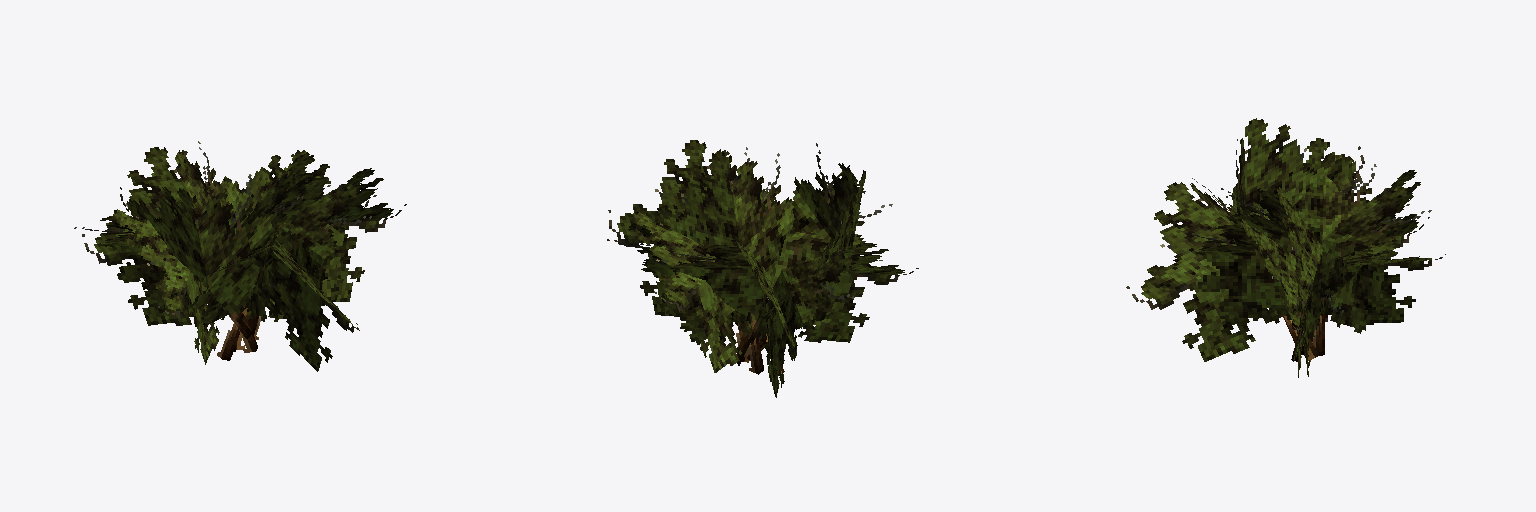
The picture shows the model from 3 angles: view 1: azimuth 30°, elevation 25°; view 2: azimuth 150°, elevation 25°; view 3: azimuth 270°, elevation 25°; orthographic projection.
Visible parts, largest first — view 1: sbushreg_1; view 2: sbushreg_1; view 3: sbushreg_1.
Boxes of the visible parts, x1=… form: sbushreg_1: x1=74, y1=141, x2=406, y2=371; sbushreg_1: x1=607, y1=140, x2=918, y2=397; sbushreg_1: x1=1126, y1=118, x2=1445, y2=377.
Size of the model in its own units: 3.17 by 2.58 by 3.04.
1 materials, 1 textured.